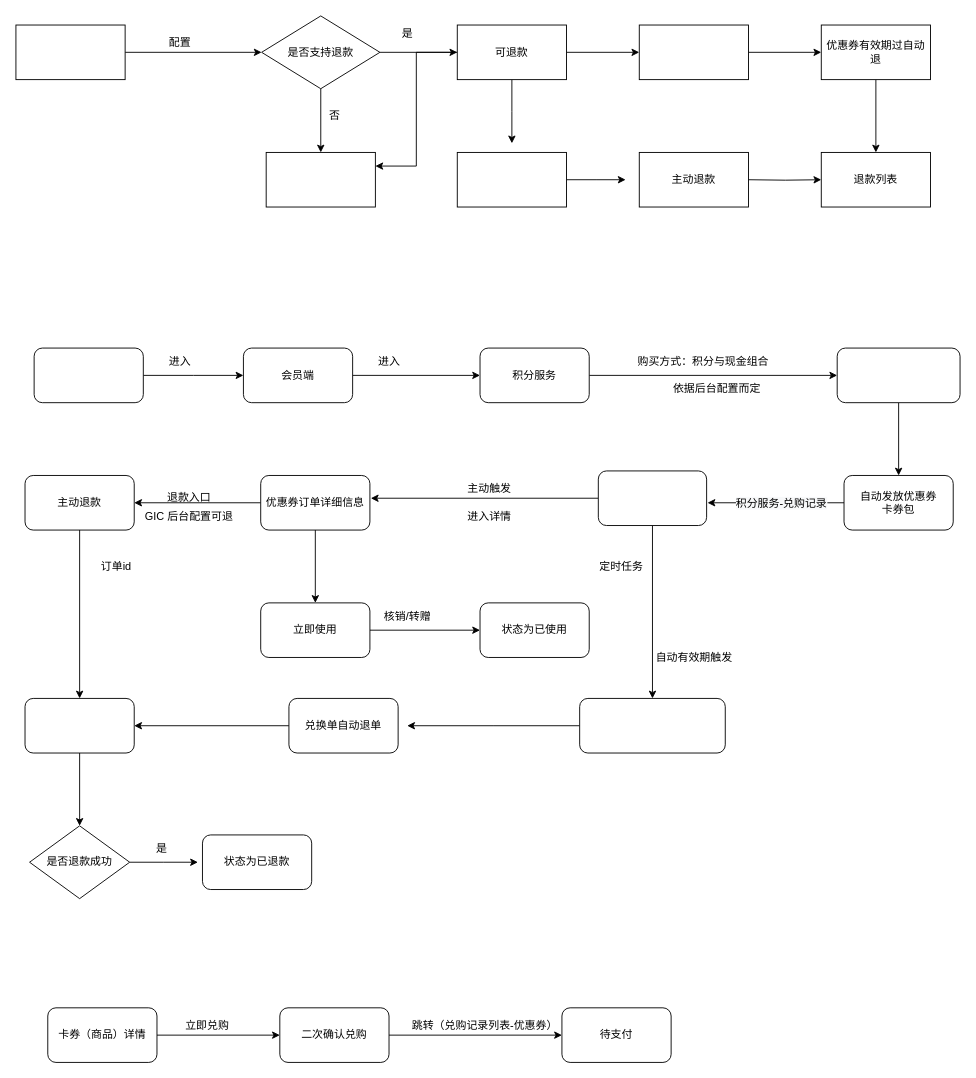
This 976x1078 diagram has some shape labels left out. The centre of each missing label's shape, as x and y in pixels:
优惠券 （含一张或多张卡券）: (898,375)
优惠券列表: (320,179)
会员用户: (88,375)
会员用户主动发起: (511,179)
发起退款流程: (79,725)
已领取 （未使用核销）: (652,498)
积分购-优惠券: (70,52)
符合退单条进 （券有效期>订单有效期）: (652,725)
过期自动退款: (693,52)
